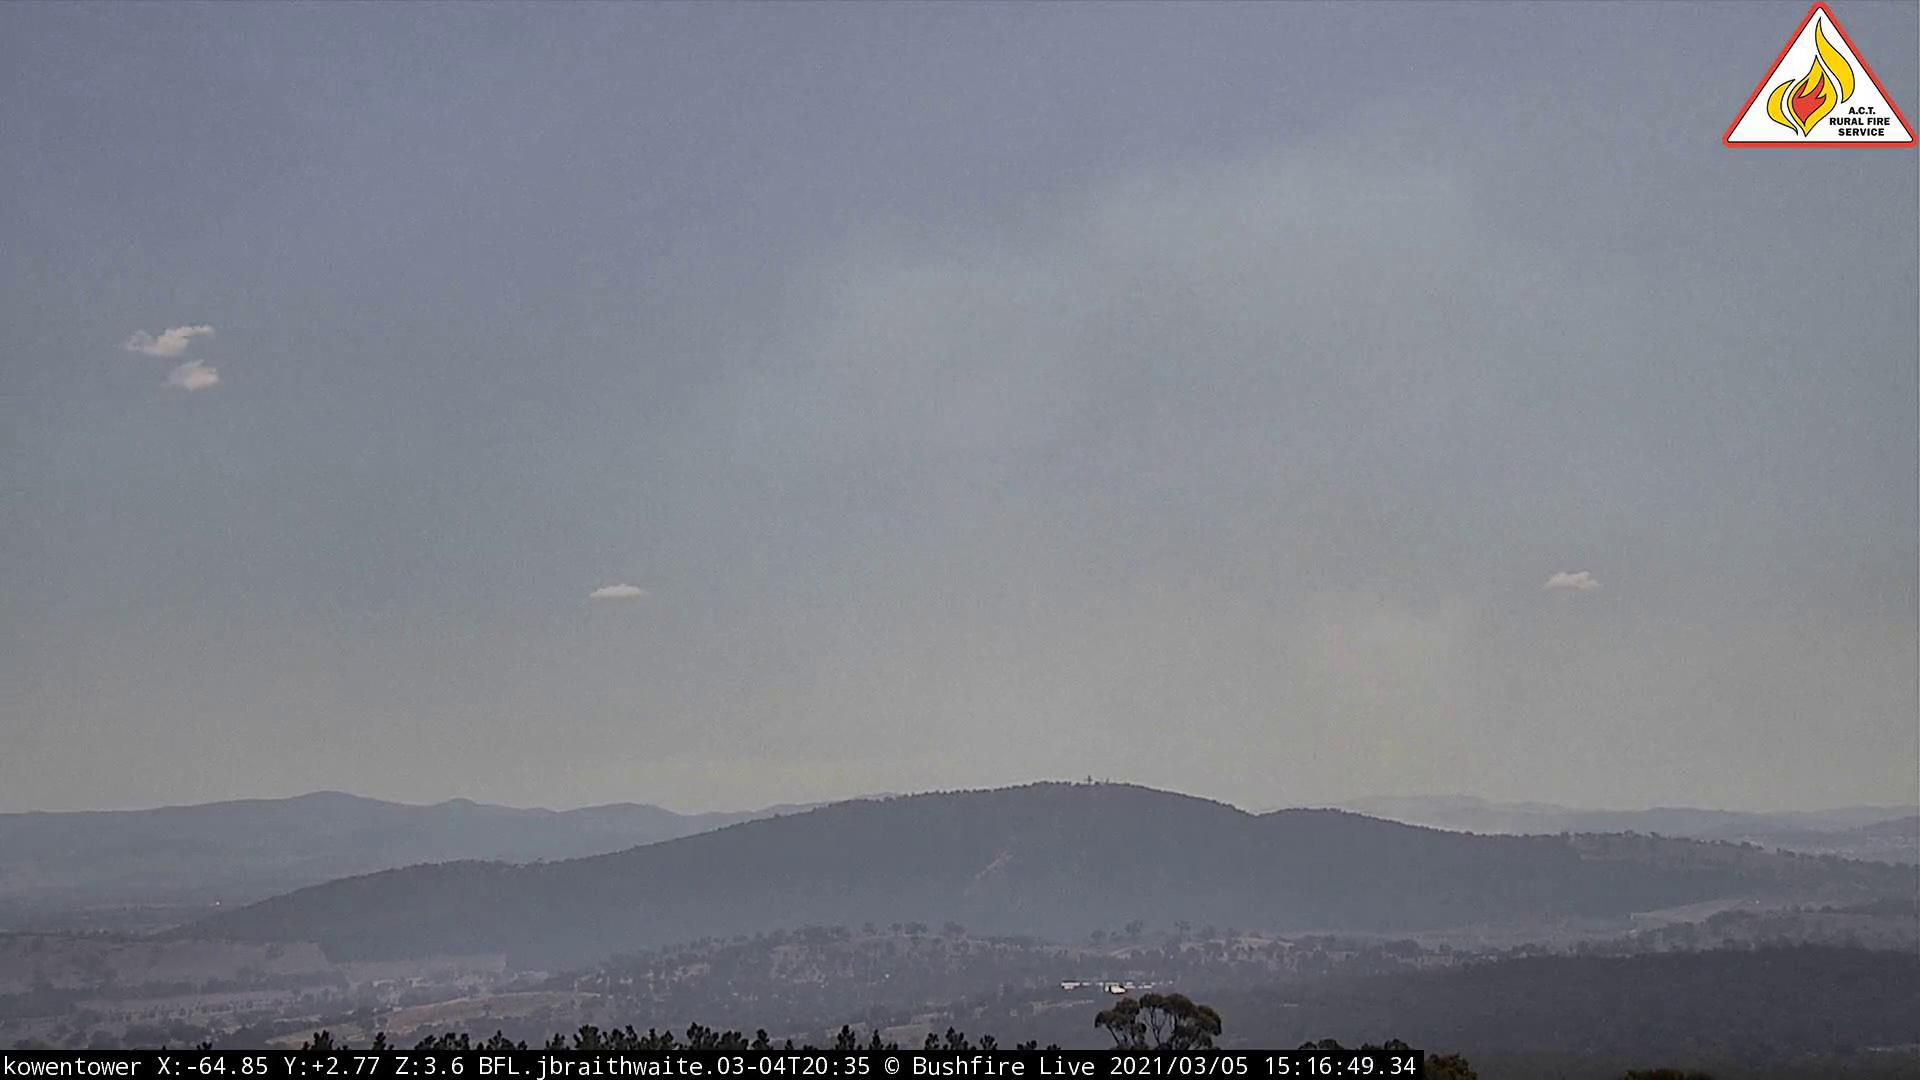Smoke: (1147, 480, 1561, 841)
